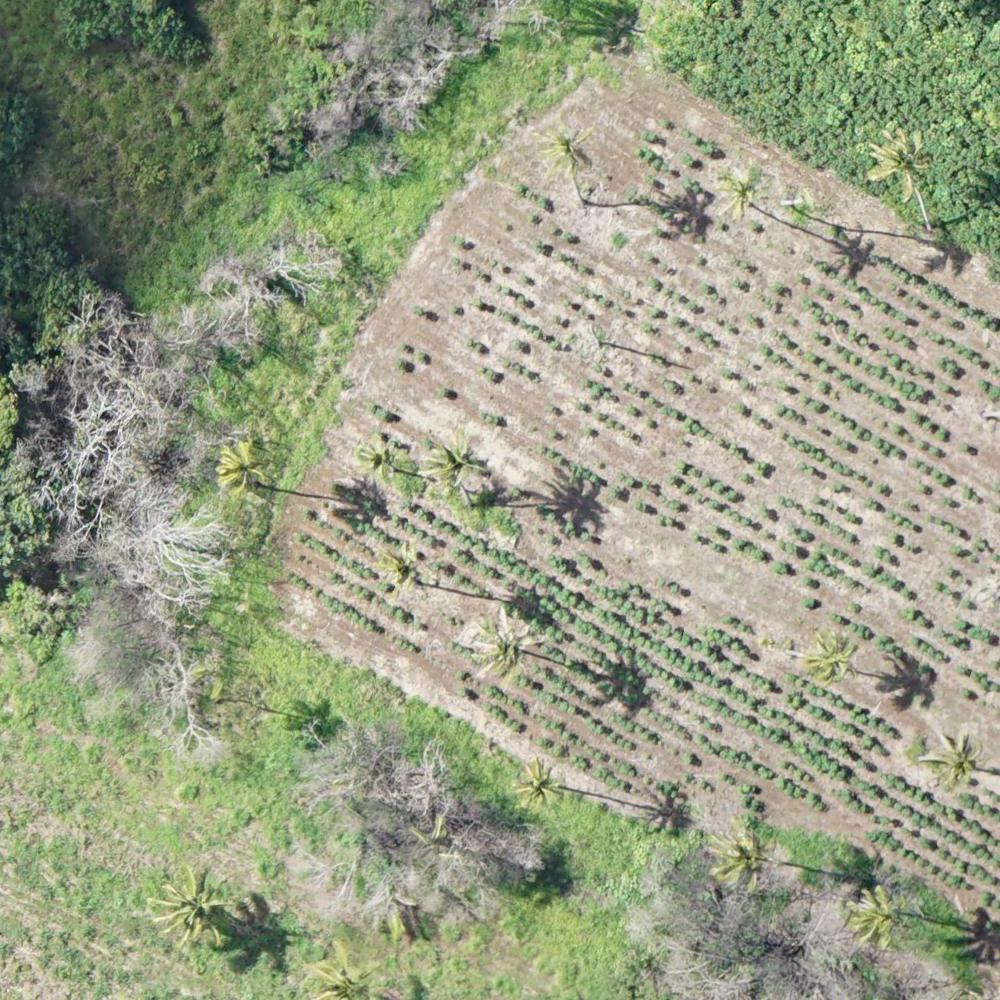Palm: (148, 866, 232, 947), (869, 132, 939, 199), (712, 824, 773, 891), (919, 731, 983, 794), (471, 619, 530, 681), (213, 441, 270, 501), (847, 885, 898, 950), (803, 632, 857, 688), (422, 440, 478, 494), (716, 162, 764, 216), (355, 433, 400, 490), (375, 546, 426, 596), (515, 758, 564, 810), (539, 119, 592, 167)
